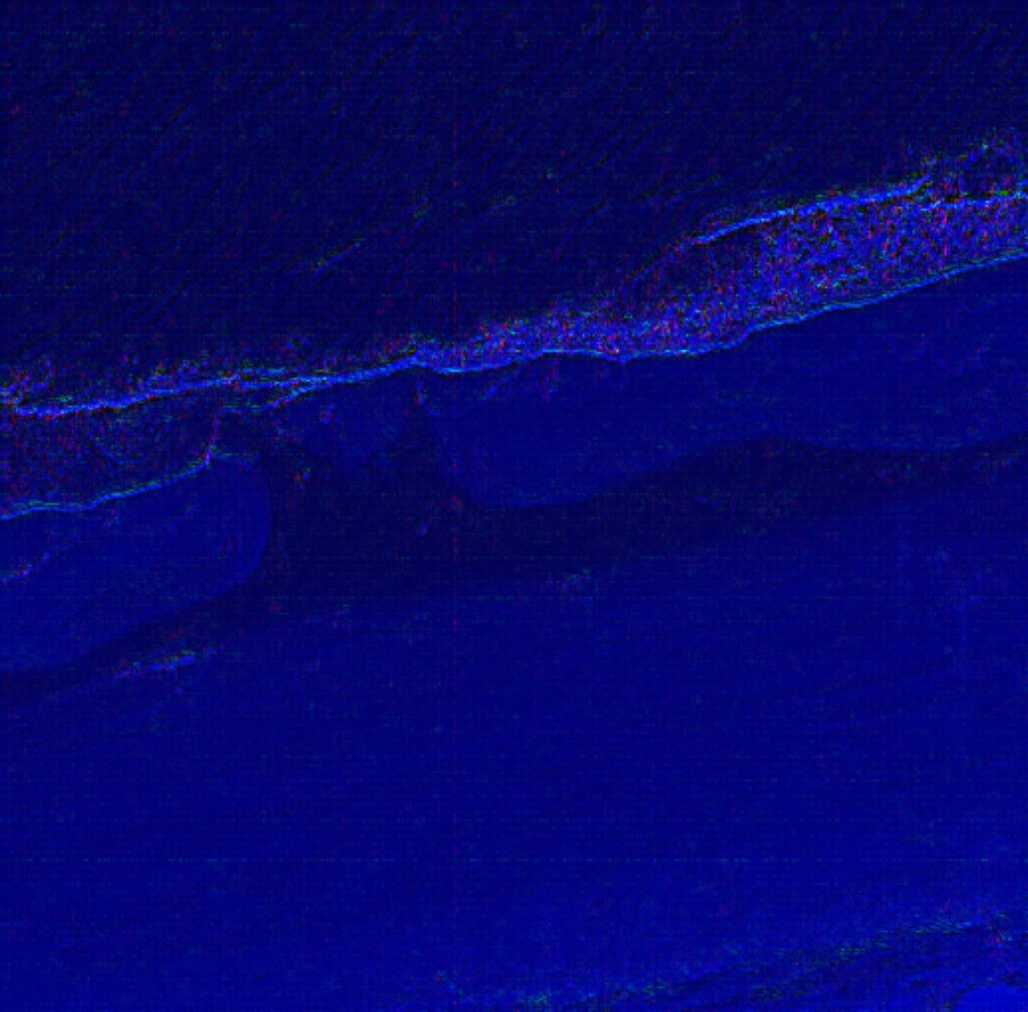rip_current: (133, 334, 297, 486)
